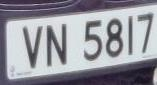1: (123, 9, 137, 60)
5: (80, 14, 105, 69)
7: (136, 7, 157, 61)
8: (104, 12, 127, 65)
N: (45, 18, 72, 74)
V: (20, 23, 45, 72)
